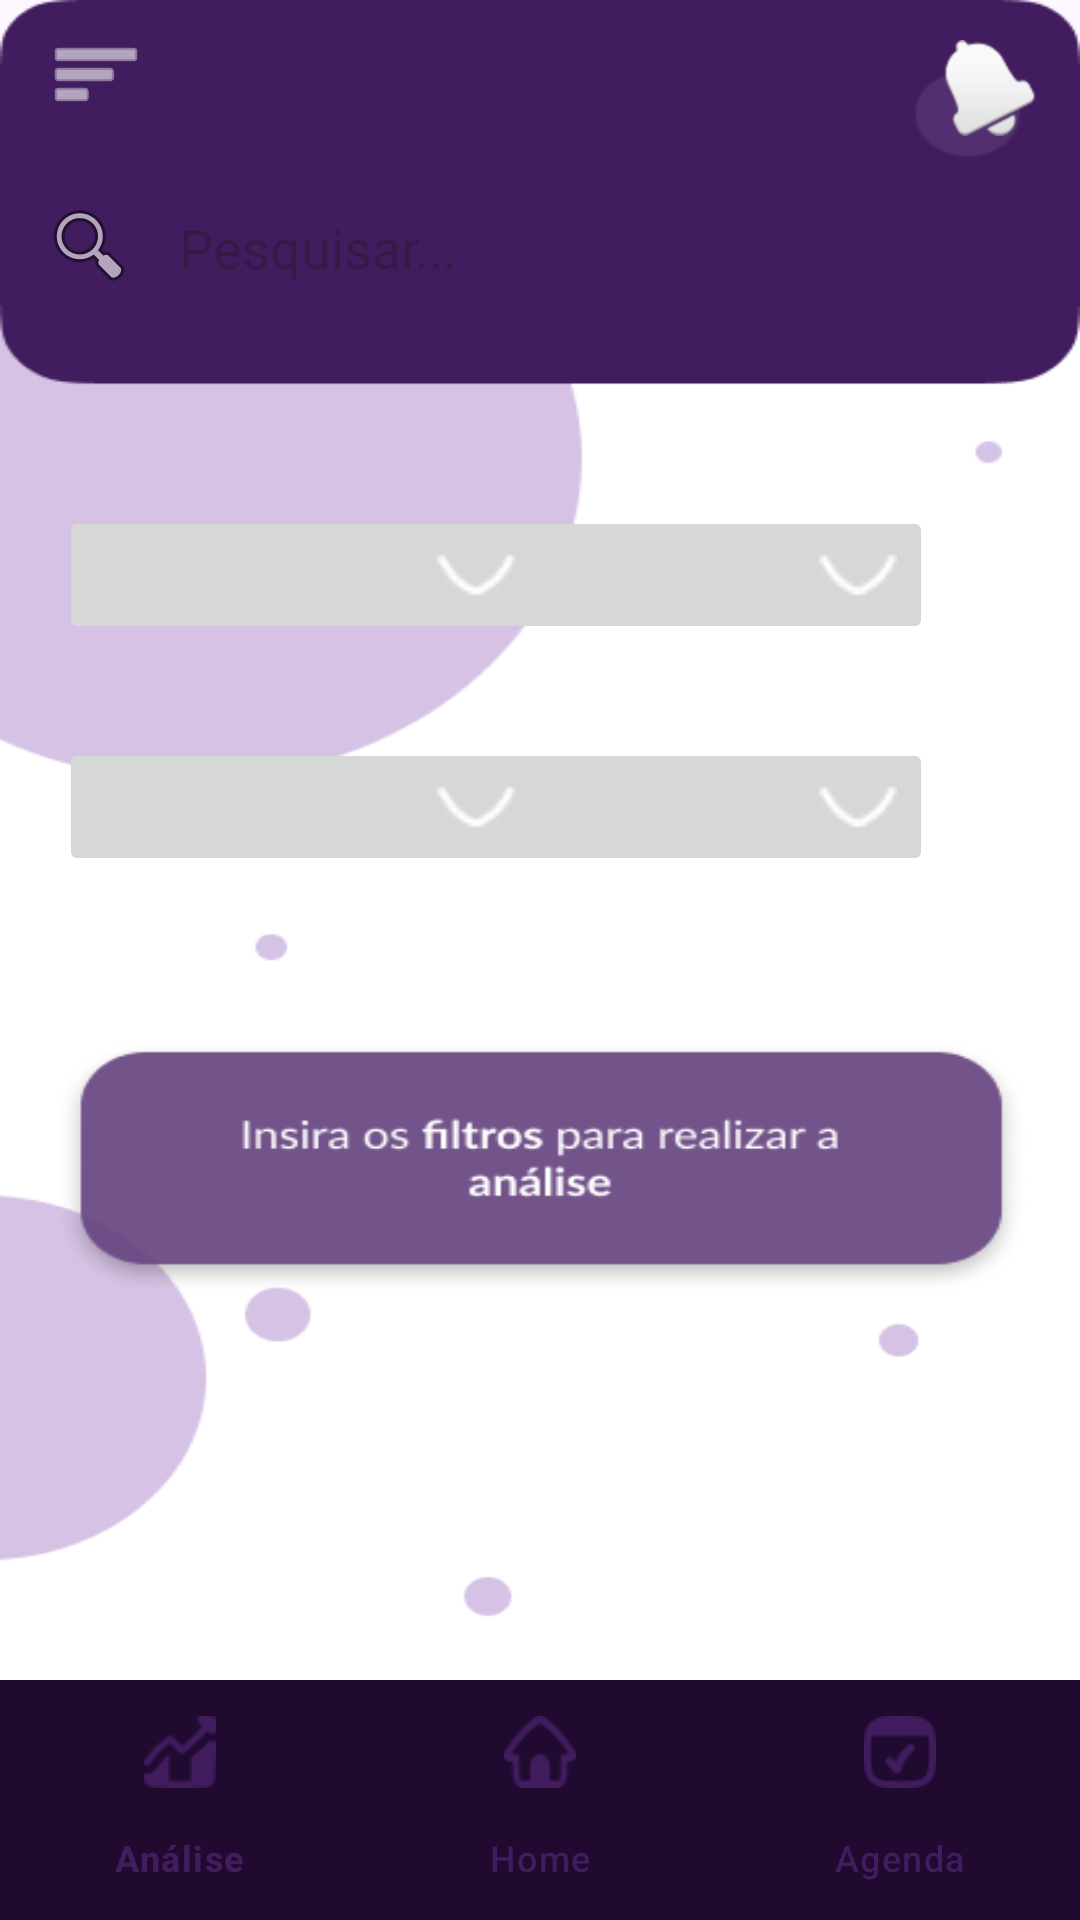

Where to tap for icons on this 1080×1920 app screen, as (x=x, y=y):
popup reminder: (x=989, y=88)
search: (x=89, y=245)
sort by size: (x=96, y=74)
